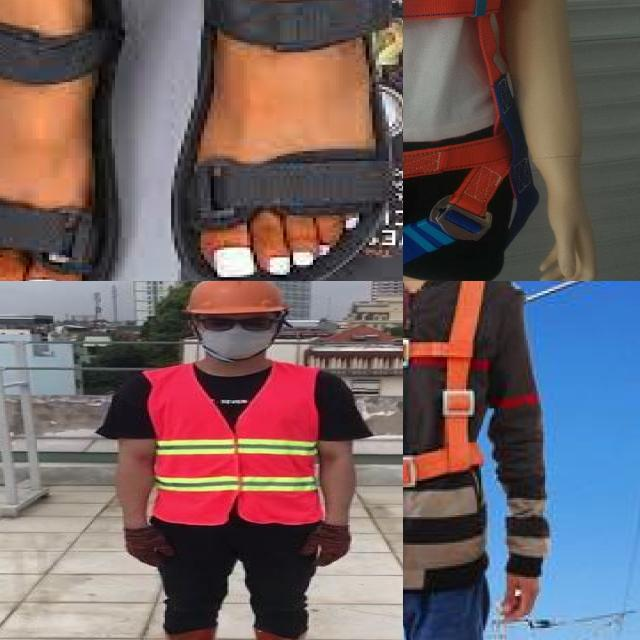Harness: (403, 0, 521, 260), (403, 281, 497, 489)
Sandals: (0, 0, 403, 281)
face_mask: (189, 310, 283, 360)
glasses: (197, 312, 279, 334)
hand_glove: (124, 526, 174, 566), (304, 526, 352, 566)
head_helmet: (185, 281, 286, 316)
person: (101, 281, 361, 640)
vest: (142, 364, 323, 522)
